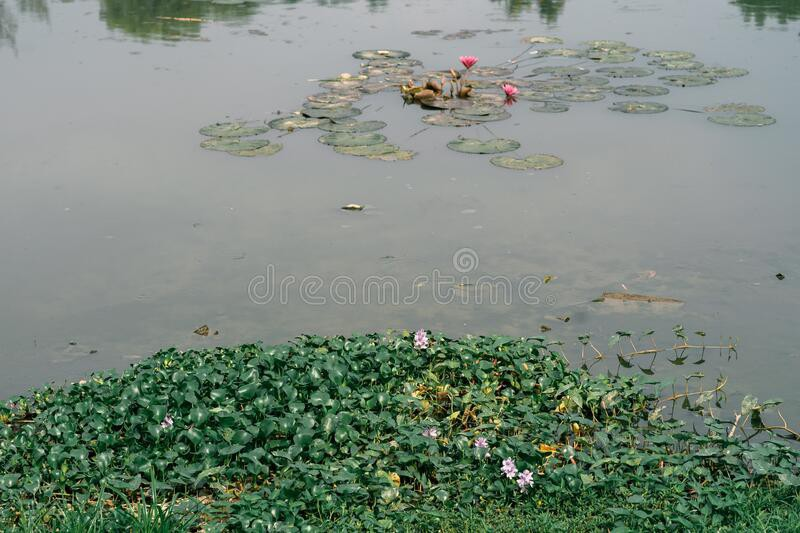water_hyacinth: (1, 329, 556, 483)
